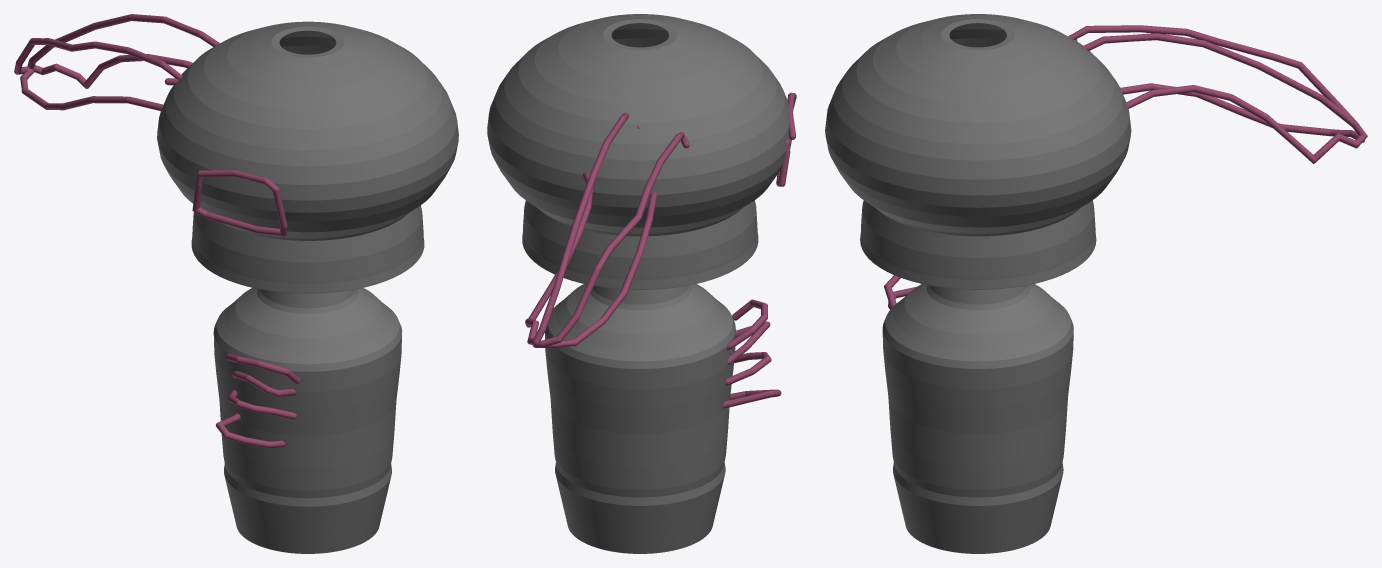
The model's file is toy.fbx.
3 views of the same model, side by side, from view 1: azimuth 30°, elevation 25°; view 2: azimuth 150°, elevation 25°; view 3: azimuth 270°, elevation 25° (orthographic).
Parts seen in each view (by area): view 1: r.0010, s.0019, s.0018, s.0017, s.0013, s.0016, s.0014; view 2: r.0010, s.0019, s.0018, s.0016, s.0014, s.0017, s.0013, s.0015; view 3: r.0010, s.0018, s.0019.
Part boxes in pixels (box(x1,y1,x2,y2)): r.0010: box(157, 21, 458, 553); s.0019: box(14, 38, 182, 110); s.0018: box(27, 14, 219, 88); s.0017: box(192, 170, 287, 236); s.0013: box(215, 413, 285, 448); s.0016: box(225, 354, 300, 384); s.0014: box(227, 390, 296, 419); r.0010: box(487, 14, 791, 553); s.0019: box(532, 132, 689, 348); s.0018: box(525, 112, 640, 345); s.0016: box(727, 299, 767, 350); s.0014: box(725, 352, 771, 385); s.0017: box(776, 92, 796, 186); s.0013: box(723, 389, 781, 408); s.0015: box(727, 321, 770, 365); r.0010: box(825, 14, 1131, 553); s.0018: box(1082, 33, 1367, 164); s.0019: box(1068, 25, 1365, 142).
Size of the model in its own units: 0.569 by 0.9972 by 1.
